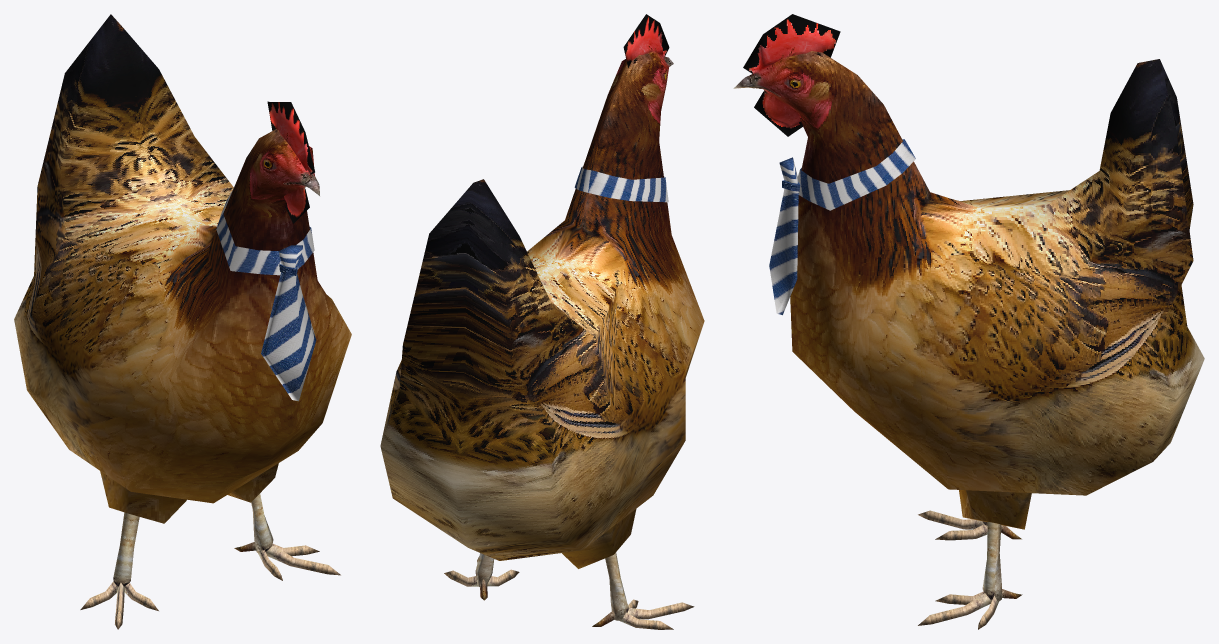
File: chicken.gltf
3 views of the same model, side by side, from view 1: azimuth 30°, elevation 25°; view 2: azimuth 150°, elevation 25°; view 3: azimuth 270°, elevation 25° (orthographic). The views are drawn at different scales.
Visible parts, largest first — view 1: Plane, Cube; view 2: Plane, Cube; view 3: Plane, Cube.
Part boxes in pixels (<box>): Plane: <box>14,14,351,629</box>; Cube: <box>216,190,316,401</box>; Plane: <box>380,14,704,629</box>; Cube: <box>574,166,668,202</box>; Plane: <box>733,14,1204,629</box>; Cube: <box>769,139,915,315</box>.
Size of the model in its own units: 0.0197 by 0.0429 by 0.0329.
2 materials, 2 textured.
